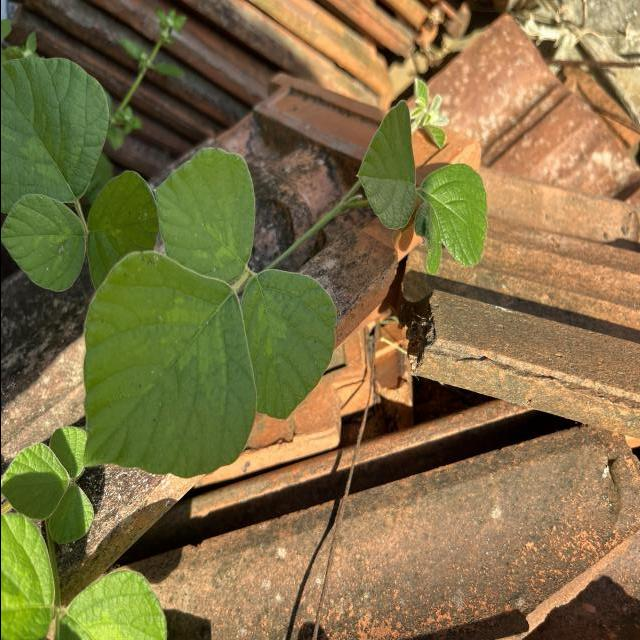Pseudarthria viscida: (78, 145, 338, 481)
